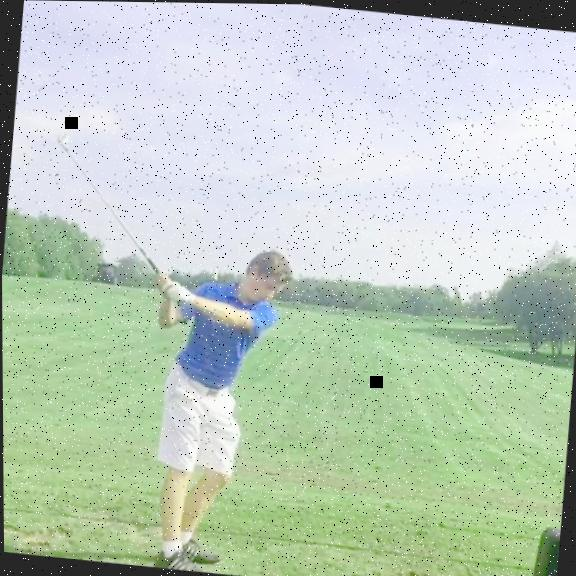ClubHead: (57, 131, 70, 145)
GolfBall: (338, 574, 348, 576)
